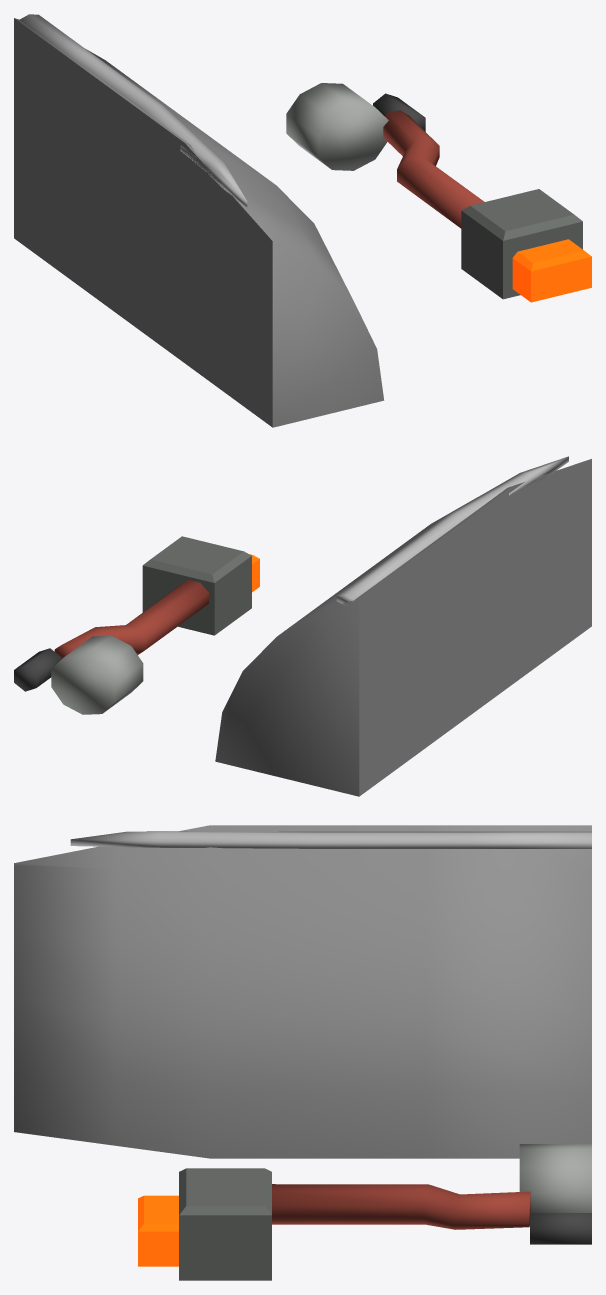
Rendered from newshi-121.glb.
3 views of the same model, one above another, from view 1: azimuth 30°, elevation 25°; view 2: azimuth 150°, elevation 25°; view 3: azimuth 270°, elevation 25° (orthographic). The views are drawn at different scales.
Parts seen in each view (by area): view 1: newshi-121; view 2: newshi-121; view 3: newshi-121.
Part boxes in pixels (bbox=[...]): newshi-121: bbox=[14, 14, 591, 427]; newshi-121: bbox=[14, 456, 591, 796]; newshi-121: bbox=[14, 825, 591, 1280].
Bounding box in the file's own units: 2 × 1.1 × 2.33.
